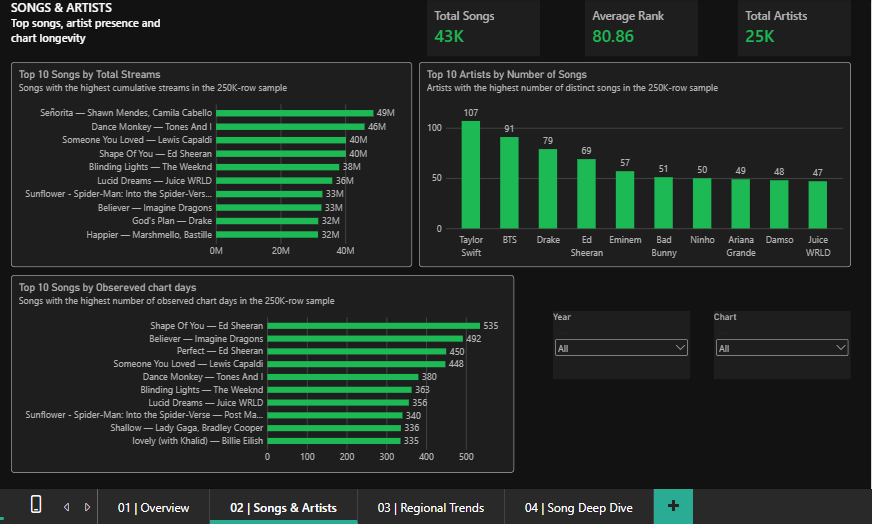

This screenshot's page, from the dashboard's own definition file:
{"tool":"powerbi","page":{"name":"02 | Songs  & Artists","canvas":[1920,1080],"ordinal":1},"visuals":[{"type":"clusteredBarChart","title":"Top 10 Songs by Total Streams","fields":{"Y":["Sum(fact_chart.streams)"],"Category":["dim_song.Song Label"]},"box":[26.4,138.9,883.8,451.8],"z":0},{"type":"clusteredColumnChart","title":"Top 10 Artists by Number of Songs","fields":{"Category":["dim_song.artist"],"Y":["_Measures.Total Songs"]},"box":[925.7,138.9,952.2,451.8],"z":1000},{"type":"clusteredBarChart","title":"Top 10 Songs by Obsereved chart days","fields":{"Category":["dim_song.Song Label"],"Y":["_Measures.Observed Chart Days"]},"box":[26.4,608.3,1108.7,436.4],"z":2000},{"type":"cardVisual","fields":{"Data":["_Measures.Total Songs"]},"box":[943.3,0,249.1,125.6],"z":3000},{"type":"cardVisual","fields":{"Data":["_Measures.Total Artists"]},"box":[1628.8,0,249.1,125.6],"z":4000},{"type":"cardVisual","fields":{"Data":["_Measures.Average Rank"]},"box":[1291.6,0,249.1,125.6],"z":5000},{"type":"textbox","box":[26.4,0,372.5,138.9],"z":6000},{"type":"slicer","title":"Year","fields":{"Values":["dim_date.year"]},"box":[1221.1,687.7,302,150],"z":7000},{"type":"slicer","title":"Chart","fields":{"Values":["dim_chart.chart"]},"box":[1575.9,687.7,301,150],"z":8000}]}

Visuals, with their boxes on the page's 1920x1080 design canvas (x1, y1, x2, y2). These are canvas units, not pixel positions in the 872x524 screenshot, which may show the page scaled, cropped or inside an application window:
"Top 10 Songs by Total Streams" clusteredBarChart: <region>26, 139, 910, 591</region>
"Top 10 Artists by Number of Songs" clusteredColumnChart: <region>926, 139, 1878, 591</region>
"Top 10 Songs by Obsereved chart days" clusteredBarChart: <region>26, 608, 1135, 1045</region>
cardVisual - _Measures.Total Songs: <region>943, 0, 1192, 126</region>
cardVisual - _Measures.Total Artists: <region>1629, 0, 1878, 126</region>
cardVisual - _Measures.Average Rank: <region>1292, 0, 1541, 126</region>
textbox: <region>26, 0, 399, 139</region>
"Year" slicer: <region>1221, 688, 1523, 838</region>
"Chart" slicer: <region>1576, 688, 1877, 838</region>
